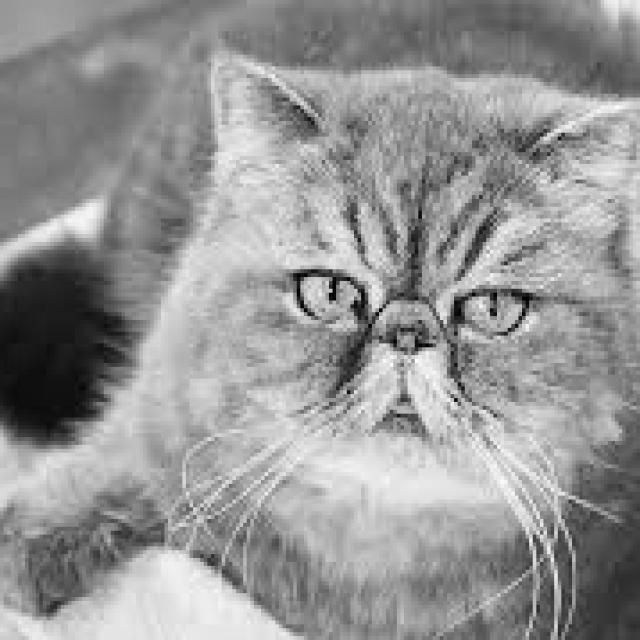iran: (230, 171, 617, 514)
